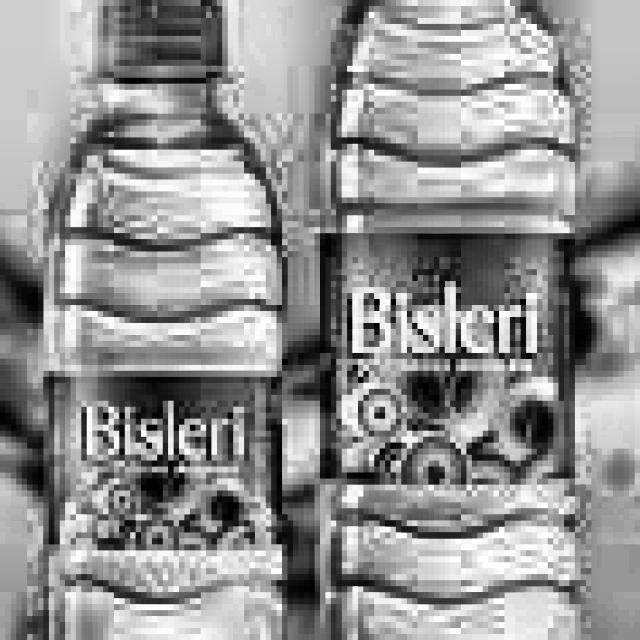bottle: (315, 0, 579, 640), (43, 0, 287, 640)
